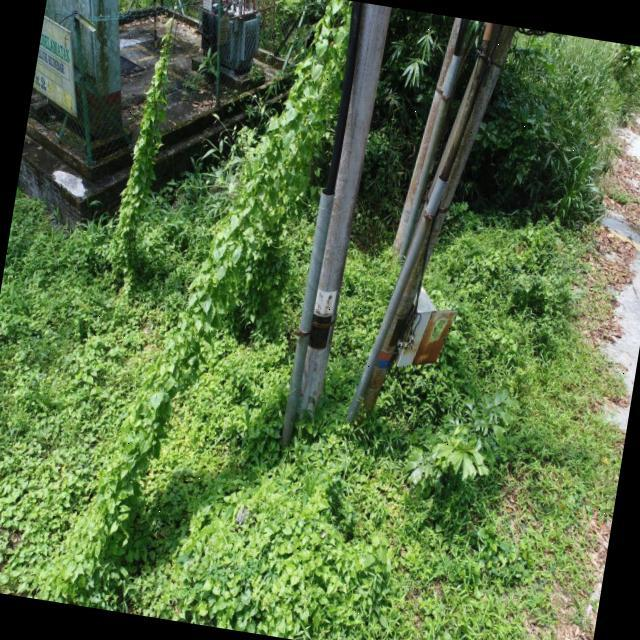critical vegetation: (112, 0, 349, 505)
